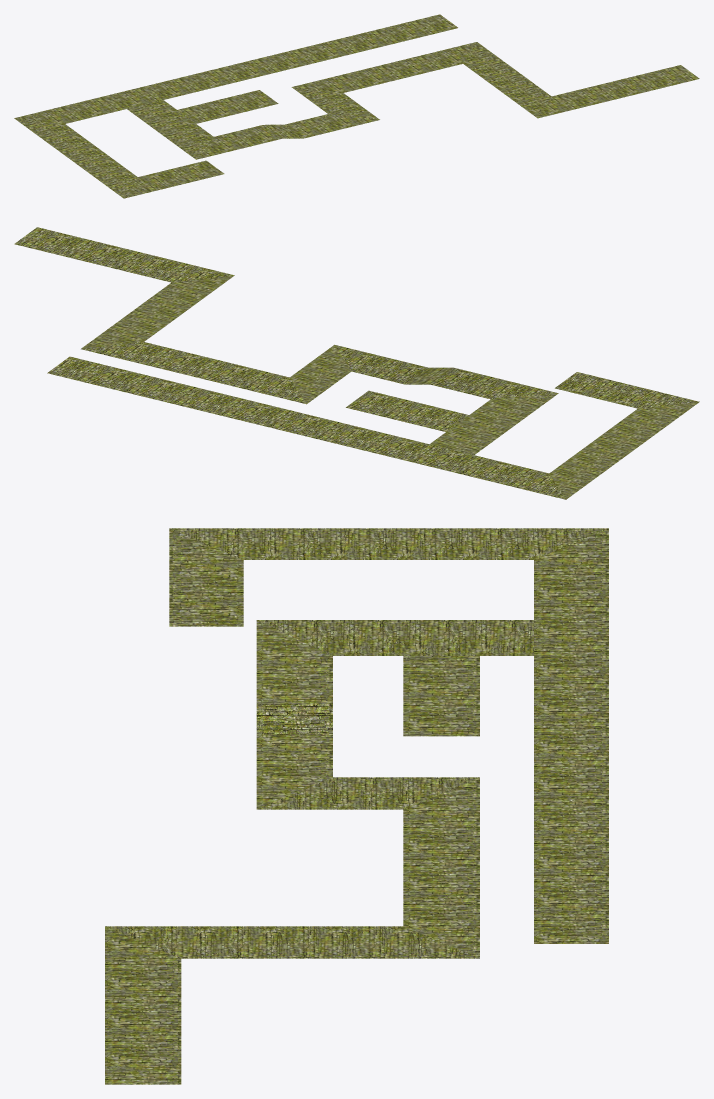
The model's file is Under_City_Hallway_2_wall02.FBX.
3 views of the same model, one above another, from view 1: azimuth 30°, elevation 25°; view 2: azimuth 150°, elevation 25°; view 3: azimuth 270°, elevation 25° (orthographic). The views are drawn at different scales.
Parts seen in each view (by area): view 1: Object012; view 2: Object012; view 3: Object012.
Boxes of the visible parts, bbox=[...] form: Object012: bbox=[14, 14, 699, 198]; Object012: bbox=[14, 227, 699, 499]; Object012: bbox=[105, 528, 608, 1084].
Bounding box in the file's own units: 11863 × 102 × 4622.
1 material, 1 textured.
